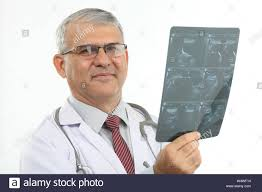Indian_Male: (62, 22, 141, 98)
